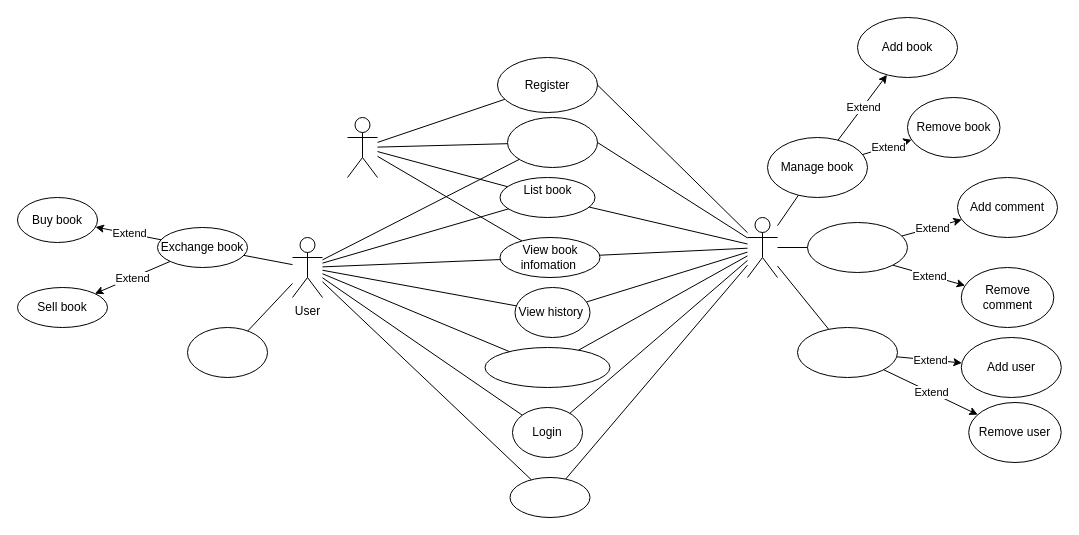
The diagram is 1079 pixels wide and 535 high, and some of its shapes have lost their labels. The centre of each missing label's shape, as x and y in pixels:
Admin: the point at 762,247
Comment: the point at 227,352
Guest: the point at 362,147
Logout: the point at 549,497
Manage comment: the point at 857,247
Manage user: the point at 847,352
Search book: the point at 552,142
Update information: the point at 547,367
